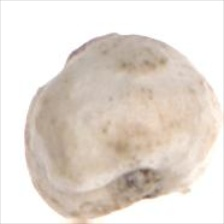L4: (23, 33, 221, 220)
